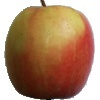apple: (3, 4, 96, 100)
